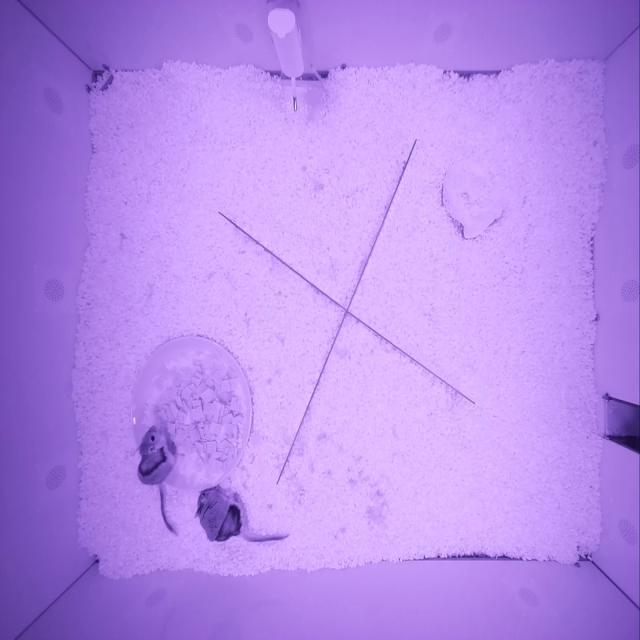adult_back: (194, 490, 245, 542)
adult_front: (137, 426, 175, 485)
